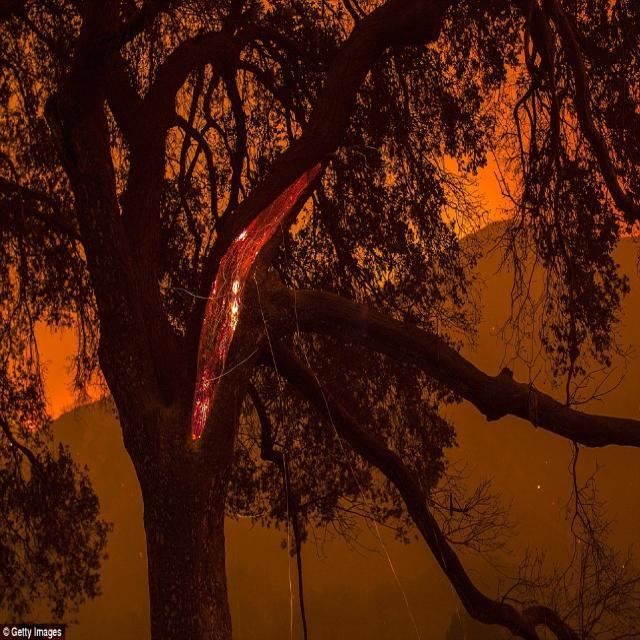Fire: (188, 160, 322, 456)
